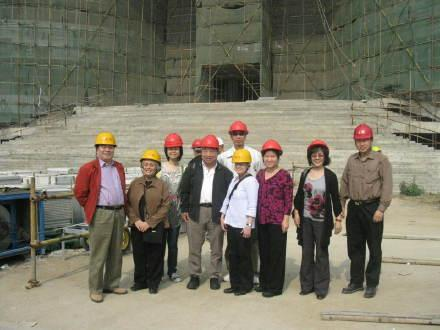helmet: (234, 149, 254, 165), (97, 132, 117, 148), (165, 133, 184, 149), (356, 125, 375, 141), (142, 150, 163, 164), (262, 140, 283, 154), (201, 136, 222, 150), (309, 140, 330, 153), (231, 121, 250, 135), (189, 139, 204, 152)
